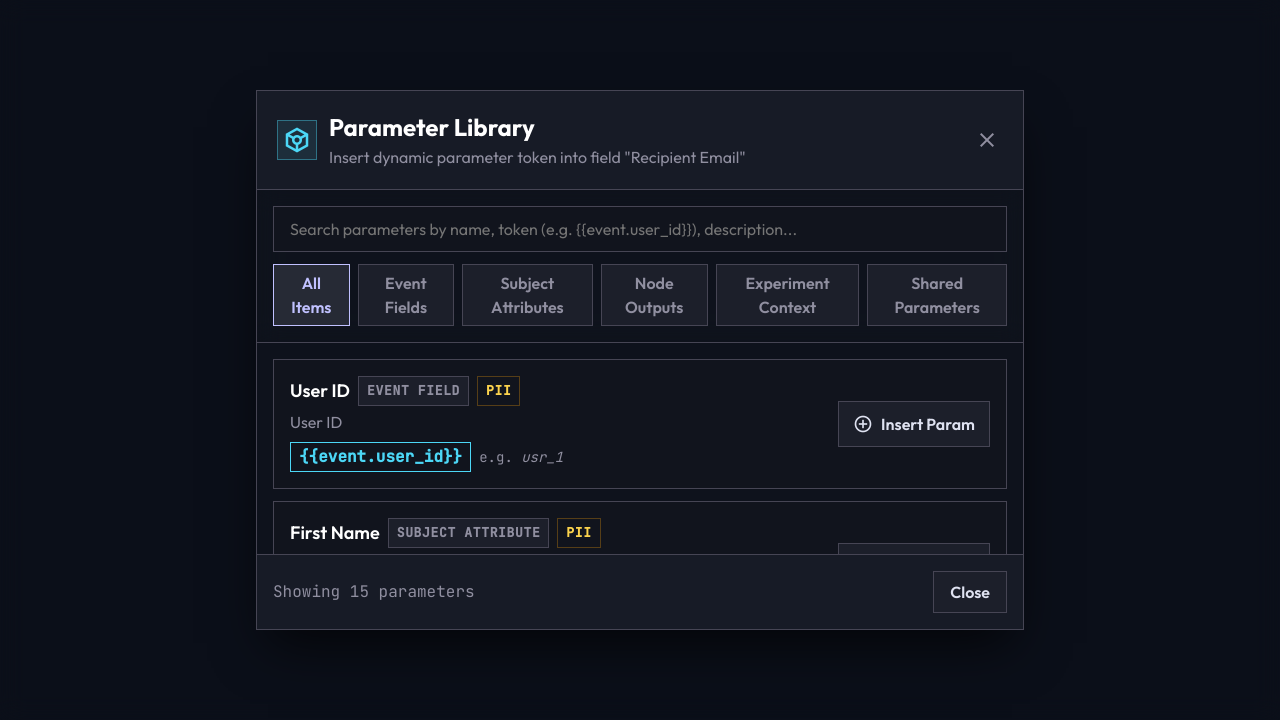
ParameterModal Component › displays empty state when search query matches no items
Replace the text in the field with test id "parameter-search-input" with "nonexistent_token_xyz_99" at (640, 229), box [273, 206, 1007, 252]
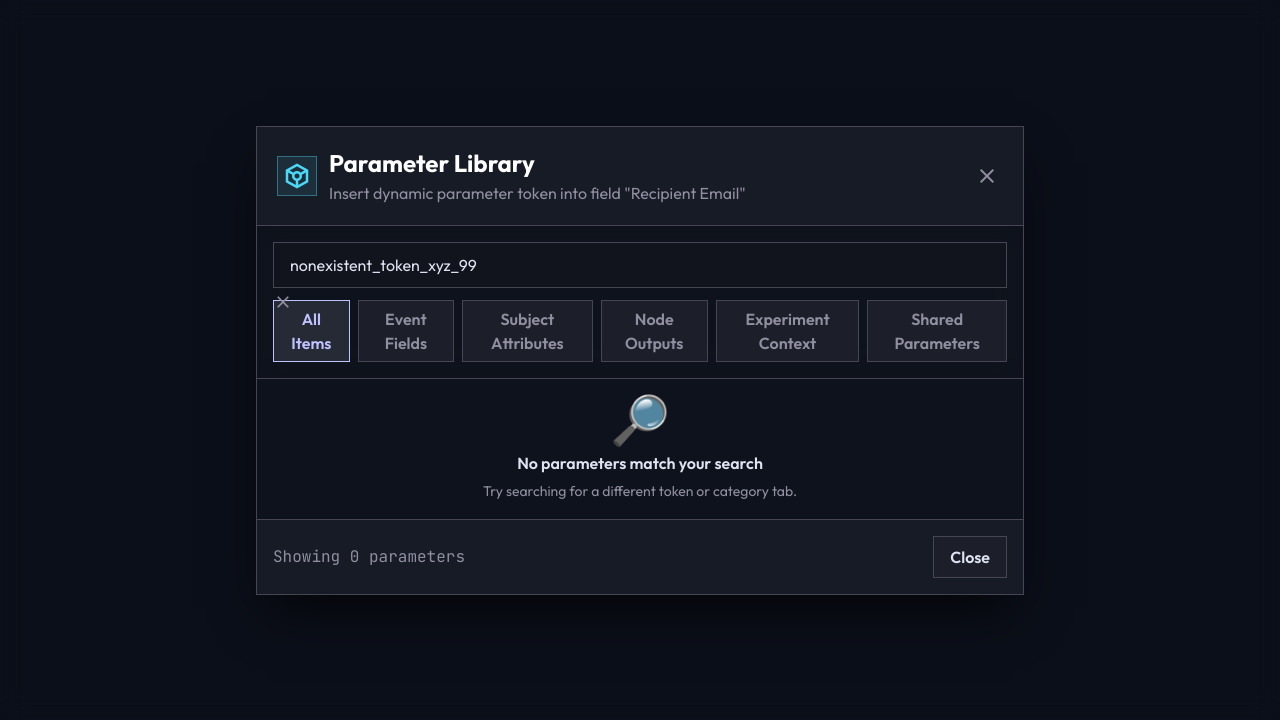
Check: the element with test id "no-parameters-found" is shown, box [483, 388, 797, 500]
Check: the text "No parameters match your search" is shown, box [517, 452, 763, 472]
